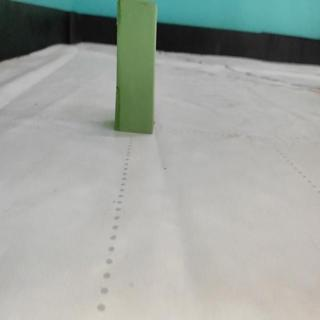greenbox: (115, 0, 158, 134)
